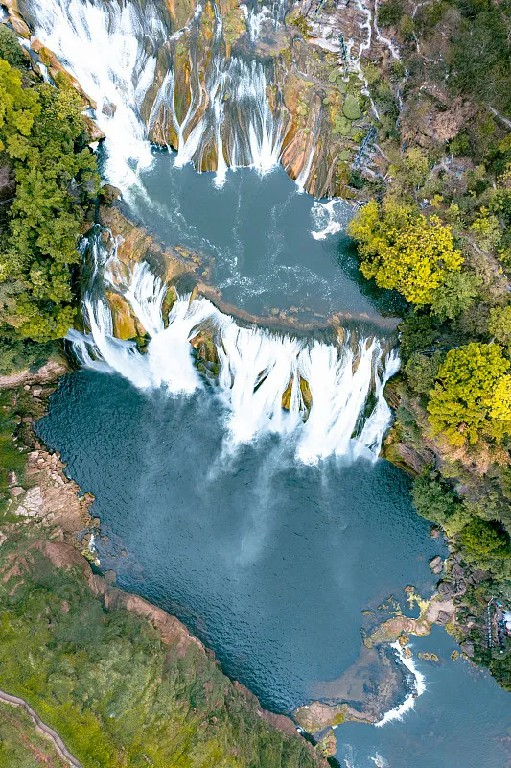Huangguoshu: (22, 3, 401, 464)
